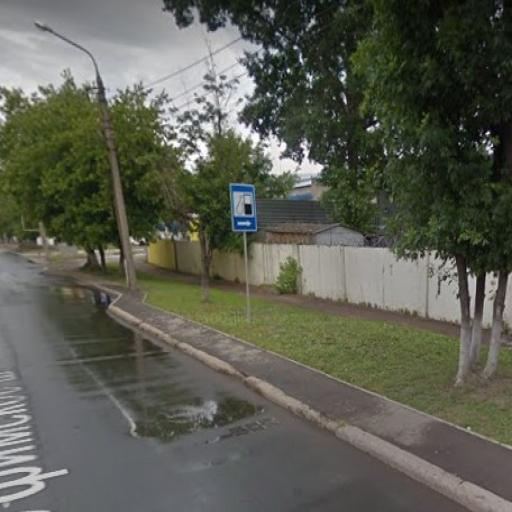traffic_sign: (228, 179, 261, 237)
